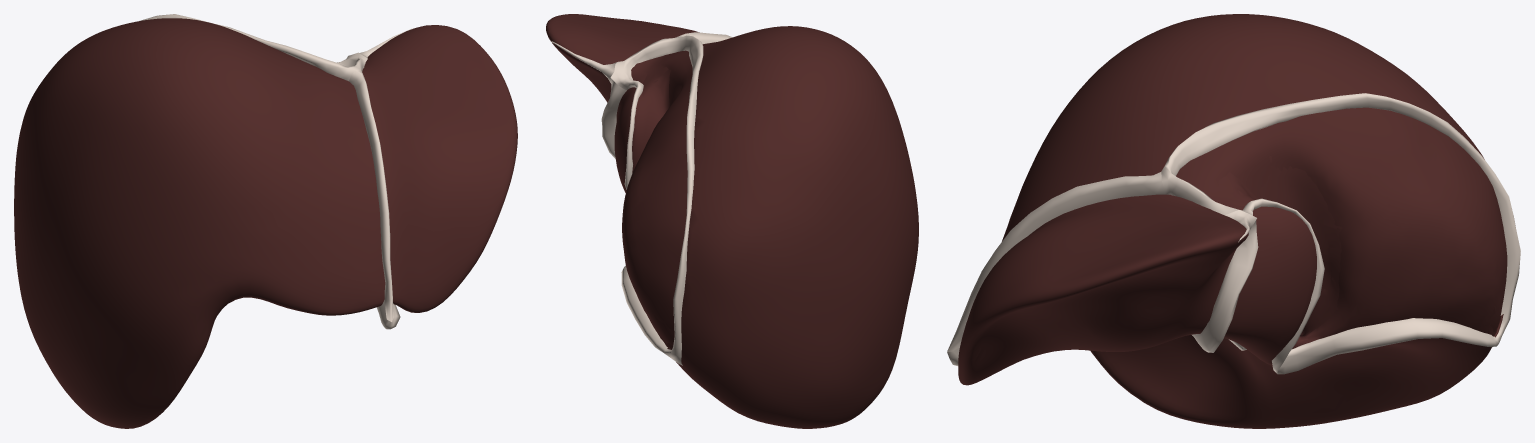
File: liver.glb
3 views of the same model, side by side, from view 1: azimuth 30°, elevation 25°; view 2: azimuth 150°, elevation 25°; view 3: azimuth 270°, elevation 25° (orthographic). The views are drawn at different scales.
Parts seen in each view (by area): view 1: VH_M_bare_area_of_liver, VH_M_hepataduodenal_ligament; view 2: VH_M_bare_area_of_liver, VH_M_hepataduodenal_ligament; view 3: VH_M_bare_area_of_liver, VH_M_hepataduodenal_ligament.
Part boxes in pixels (bbox=[...]): VH_M_bare_area_of_liver: bbox=[14, 18, 517, 428]; VH_M_hepataduodenal_ligament: bbox=[140, 14, 413, 329]; VH_M_bare_area_of_liver: bbox=[546, 14, 918, 428]; VH_M_hepataduodenal_ligament: bbox=[551, 32, 732, 365]; VH_M_bare_area_of_liver: bbox=[958, 14, 1507, 428]; VH_M_hepataduodenal_ligament: bbox=[947, 93, 1520, 374].
Size of the model in its own units: 0.1914 by 0.1746 by 0.2018.
